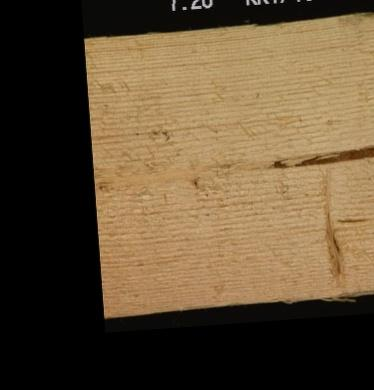small_knot: (93, 173, 119, 197), (179, 167, 207, 189)
